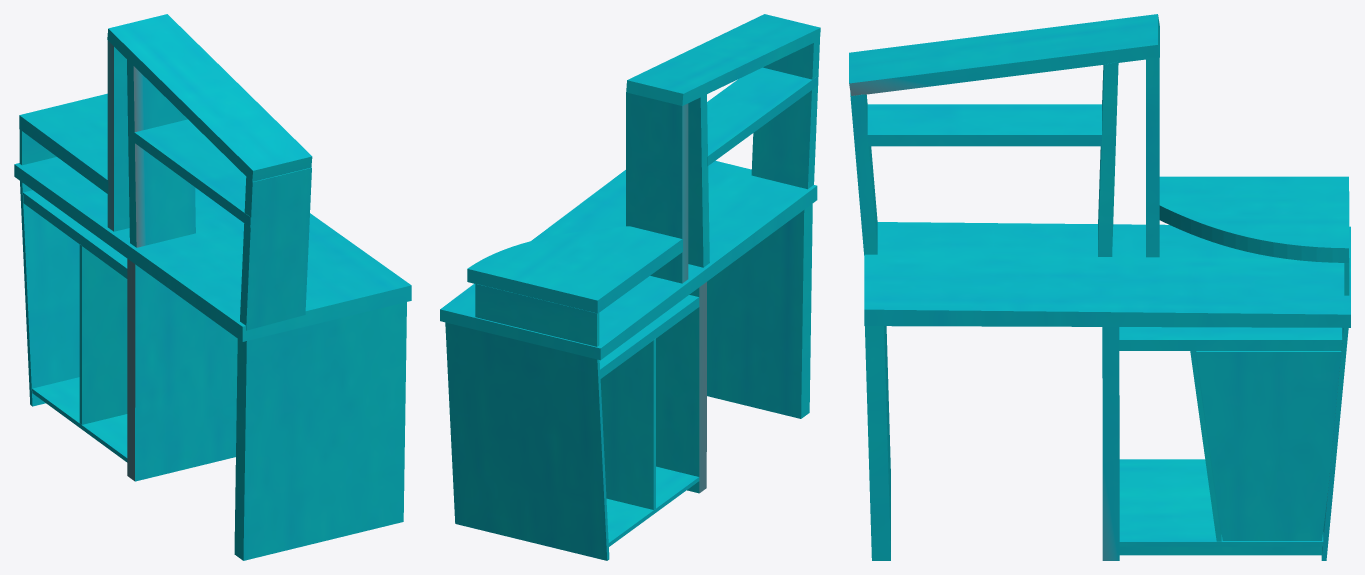
Rendered from escritorio.fbx.
The picture shows the model from 3 angles, left to right: view 1: azimuth 30°, elevation 25°; view 2: azimuth 150°, elevation 25°; view 3: azimuth 270°, elevation 25°; orthographic projection. The views are drawn at different scales.
Parts seen in each view (by area): view 1: pasted__pasted__polySurface1579; view 2: pasted__pasted__polySurface1579; view 3: pasted__pasted__polySurface1579.
Boxes of the visible parts, x1,y1,x2,y2 form: pasted__pasted__polySurface1579: (14, 14, 411, 560); pasted__pasted__polySurface1579: (440, 14, 820, 560); pasted__pasted__polySurface1579: (849, 14, 1350, 560).
Size of the model in its own units: 2.78 by 6.82 by 6.7.
